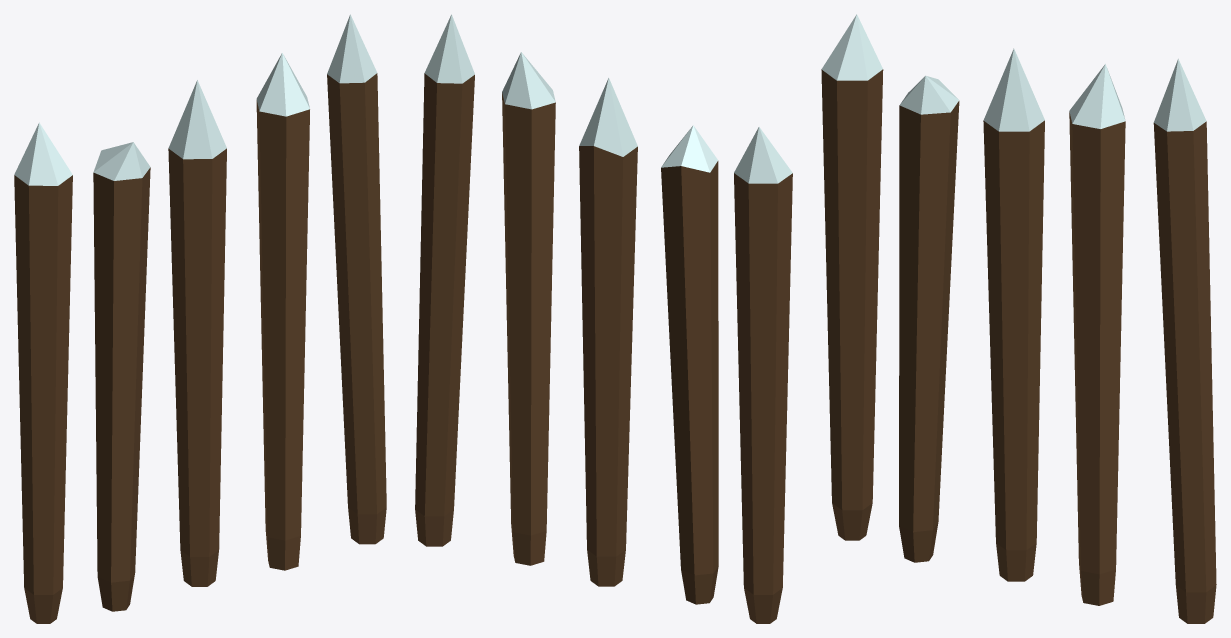
File: medieval_stakes-snow.fbx
3 views of the same model, side by side, from view 1: azimuth 30°, elevation 25°; view 2: azimuth 150°, elevation 25°; view 3: azimuth 330°, elevation 25° (orthographic). The views are drawn at different scales.
Visible parts, largest first — view 1: medieval_stakes_snow; view 2: medieval_stakes_snow; view 3: medieval_stakes_snow.
Boxes of the visible parts, box(x1,y1,x2,y2) form: medieval_stakes_snow: box(14, 14, 386, 623); medieval_stakes_snow: box(415, 14, 792, 623); medieval_stakes_snow: box(821, 14, 1216, 623).
Size of the model in its own units: 143 by 200 by 21.58.
